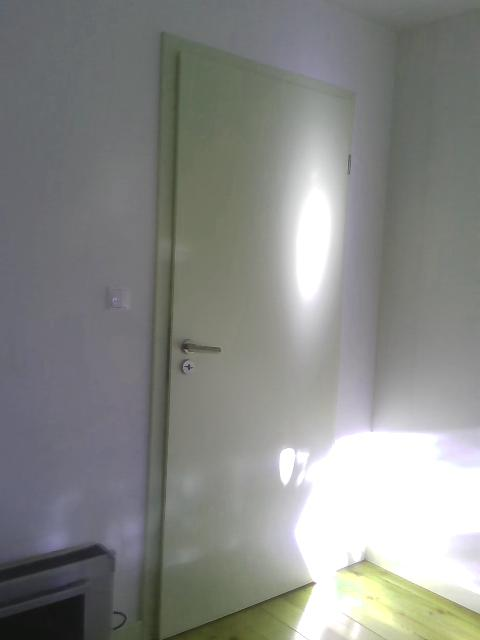closed_door: (142, 30, 356, 639)
